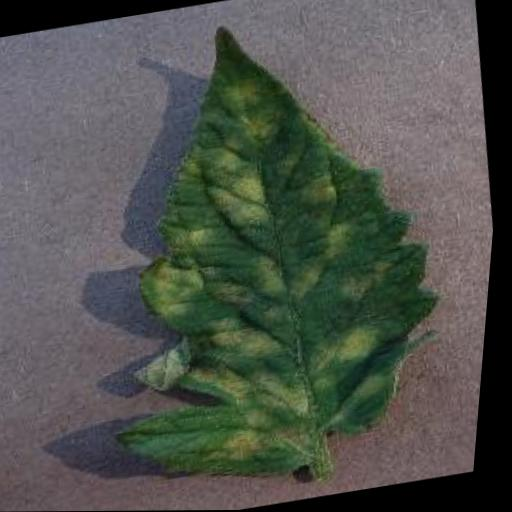Leaf Mold: (65, 0, 491, 499)
